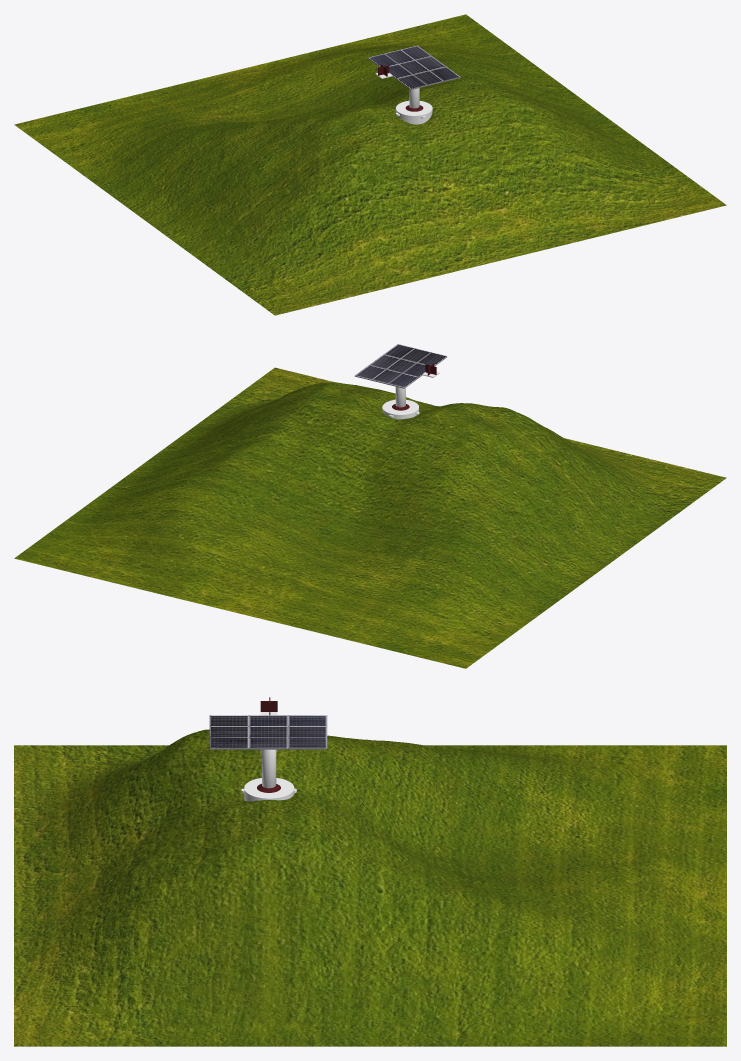
Rendered from panel.glb.
3 views of the same model, one above another, from view 1: azimuth 30°, elevation 25°; view 2: azimuth 150°, elevation 25°; view 3: azimuth 270°, elevation 25° (orthographic). The views are drawn at different scales.
Visible parts, largest first — view 1: Landscape, panel, base; view 2: Landscape, panel; view 3: Landscape, panel, base, verticalAxle.
Part boxes in pixels (left/top/right/bottom): Landscape: left=14, top=14, right=726, bottom=315; panel: left=368, top=45, right=460, bottom=89; base: left=396, top=100, right=432, bottom=124; Landscape: left=14, top=367, right=726, bottom=668; panel: left=354, top=344, right=447, bottom=388; Landscape: left=14, top=729, right=726, bottom=1046; panel: left=209, top=715, right=327, bottom=749; base: left=244, top=778, right=294, bottom=801; verticalAxle: left=262, top=749, right=276, bottom=788.
Size of the model in its own units: 2 by 0.5545 by 2.
Materials: 6 (2 with a texture image).
